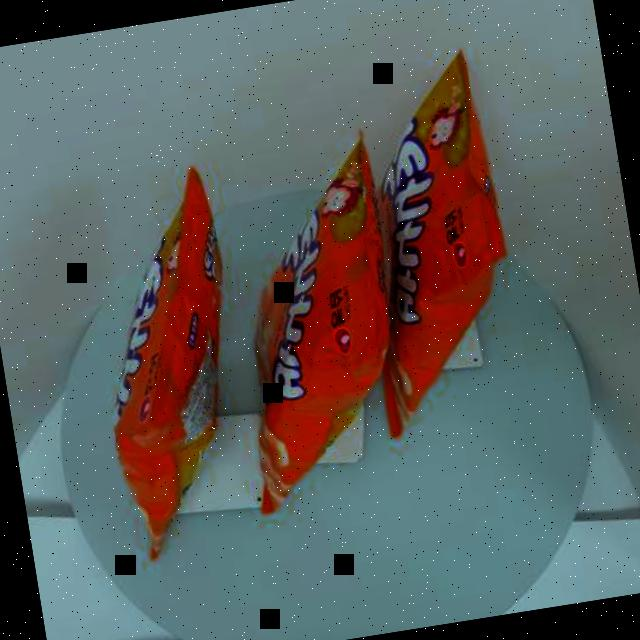snack_bag: (48, 35, 561, 574)
